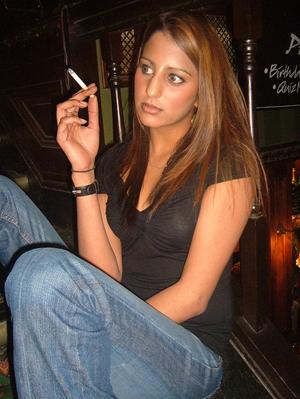person: (2, 6, 262, 397)
